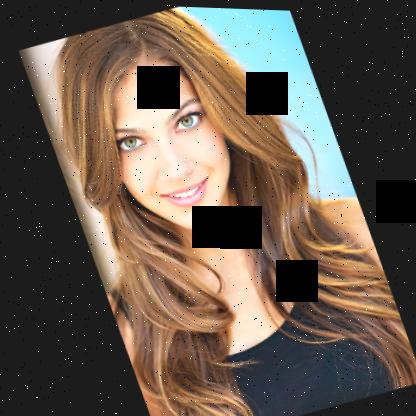Female: (81, 43, 250, 247)
